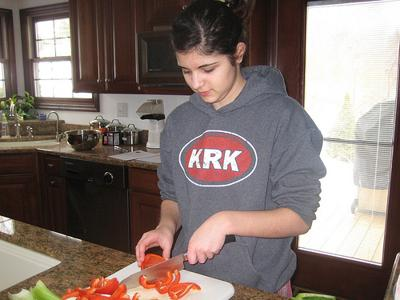person: (131, 1, 329, 298)
